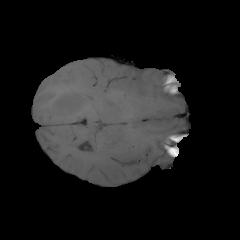glioma: (50, 86, 93, 118)
